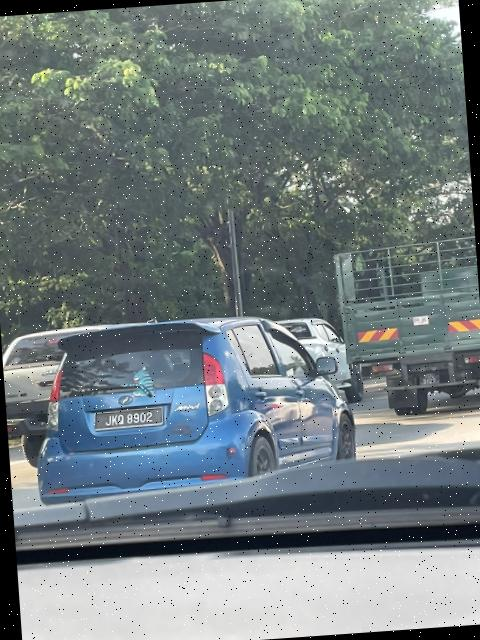License_Plate: (95, 407, 164, 433)
car: (32, 313, 353, 507)
